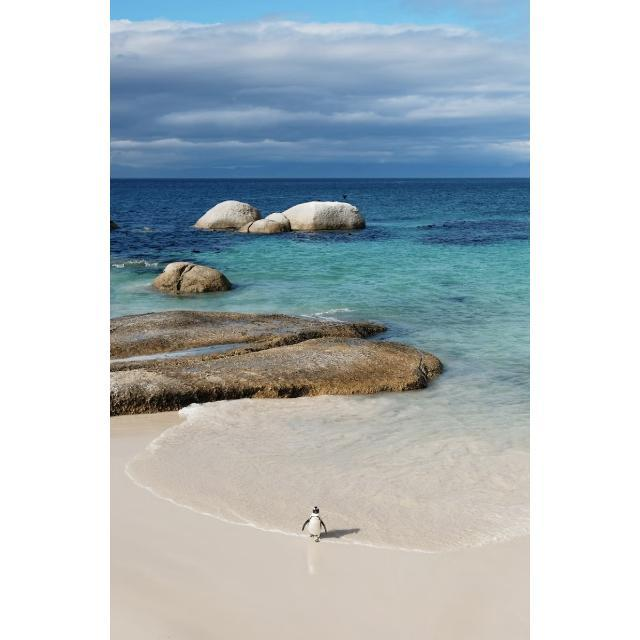penguin: (302, 505, 329, 544)
